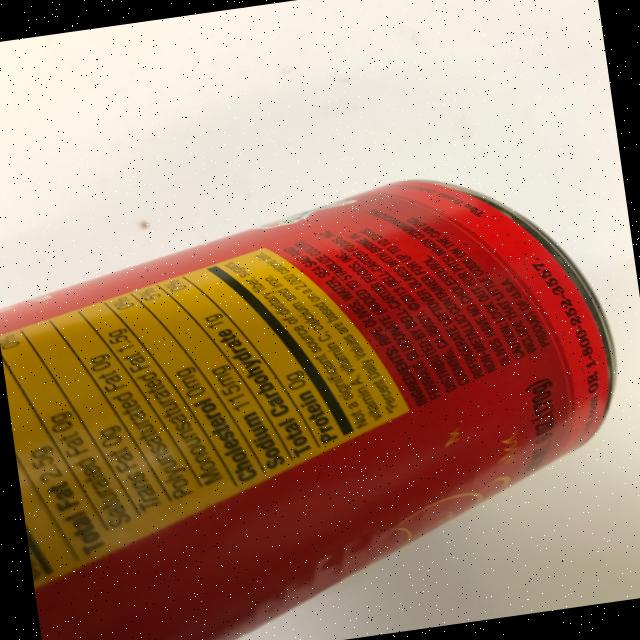metal: (0, 152, 640, 640)
